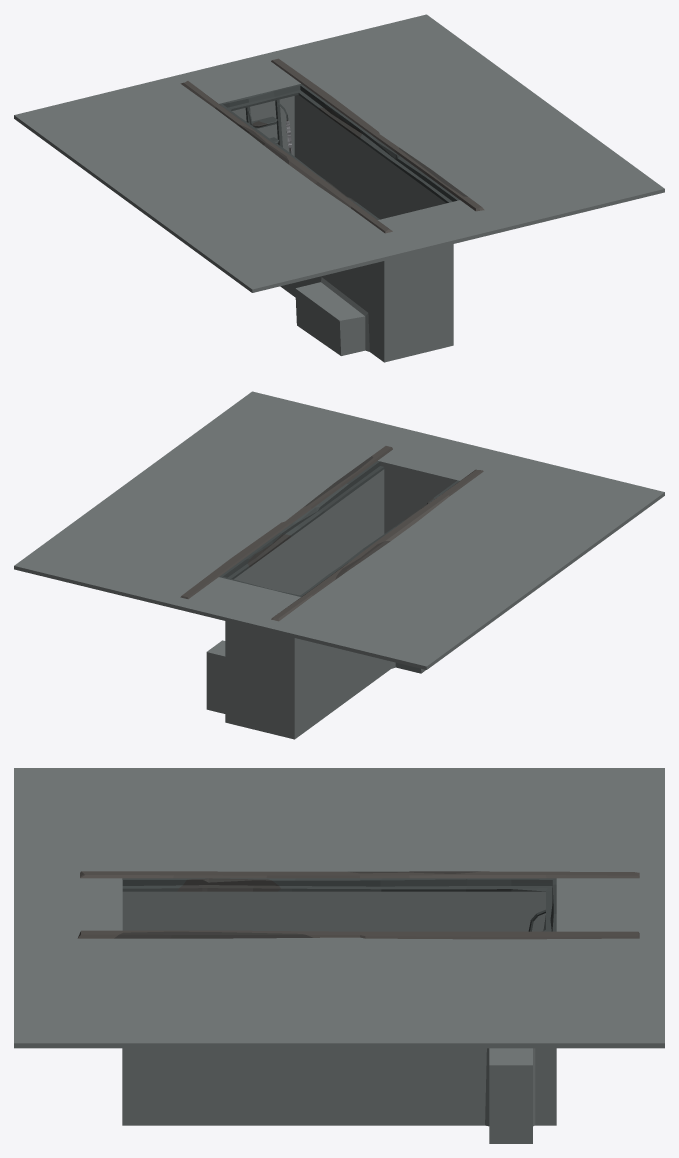
File: SM_Floor_Pit_6x3_B.fbx
3 views of the same model, one above another, from view 1: azimuth 30°, elevation 25°; view 2: azimuth 150°, elevation 25°; view 3: azimuth 270°, elevation 25° (orthographic). The views are drawn at different scales.
Parts seen in each view (by area): view 1: SM_Floor_Pit_6x3_B; view 2: SM_Floor_Pit_6x3_B; view 3: SM_Floor_Pit_6x3_B.
Boxes of the visible parts, x1=… form: SM_Floor_Pit_6x3_B: x1=14, y1=14, x2=664, y2=362; SM_Floor_Pit_6x3_B: x1=14, y1=391, x2=664, y2=739; SM_Floor_Pit_6x3_B: x1=14, y1=768, x2=664, y2=1143.
Size of the model in its own units: 600 by 203 by 600.
